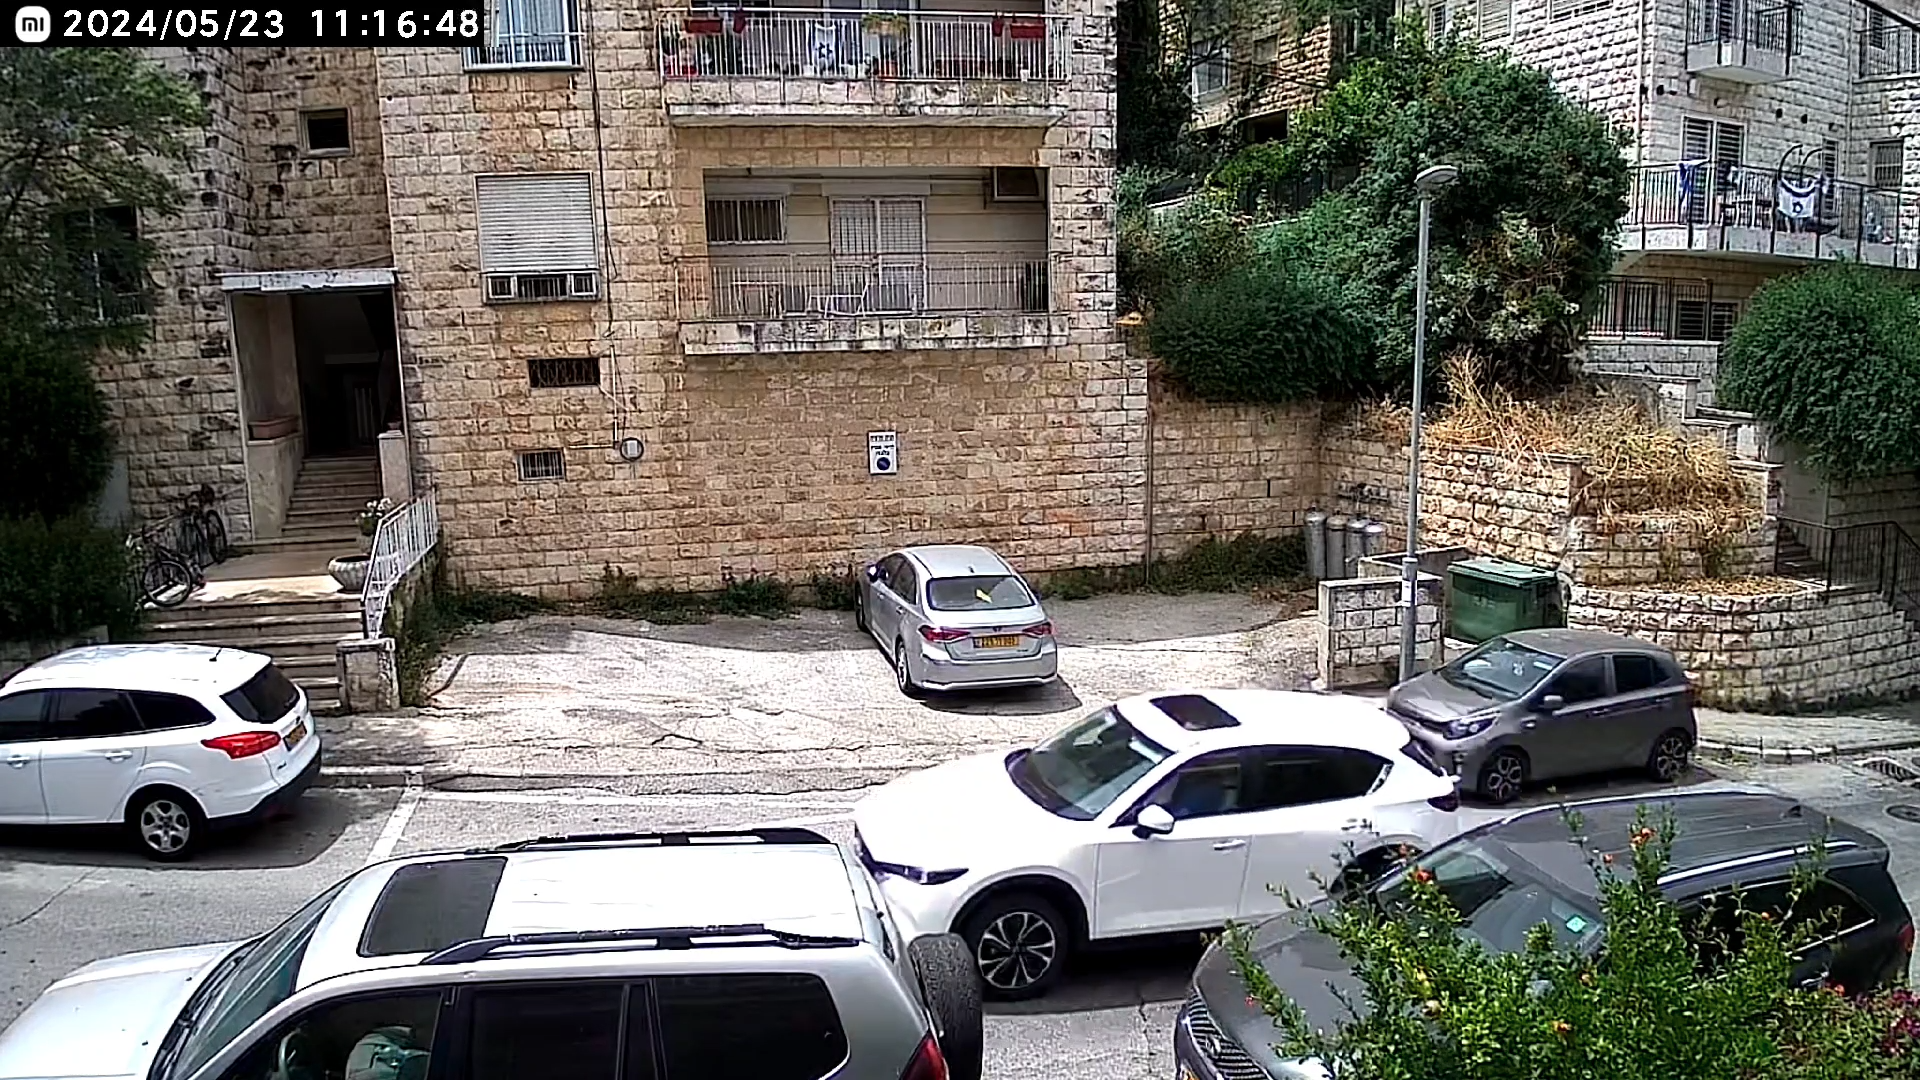moving car: (852, 684, 1462, 949)
